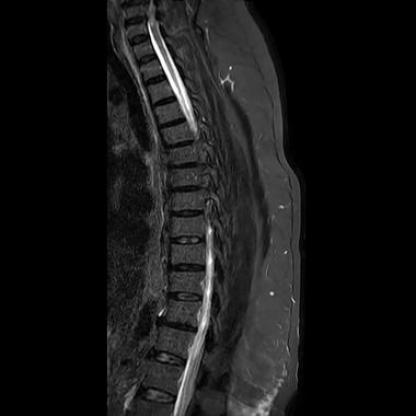Osteophytesrotation: (135, 29, 214, 416)
